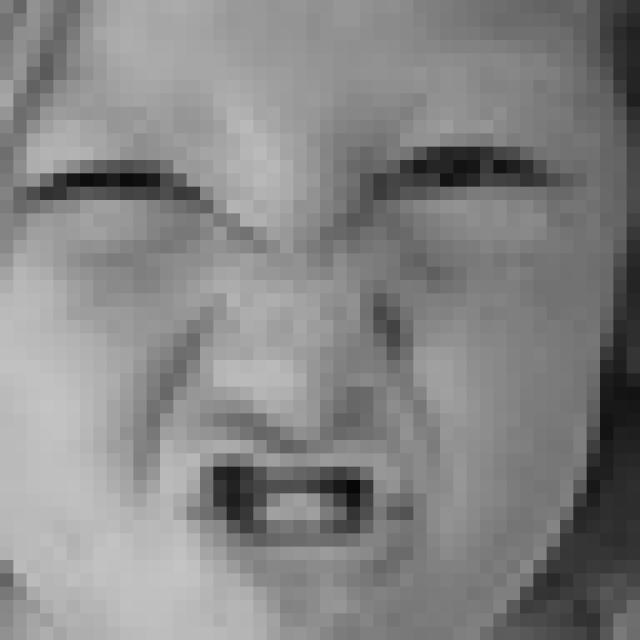disgust: (22, 123, 573, 608)
